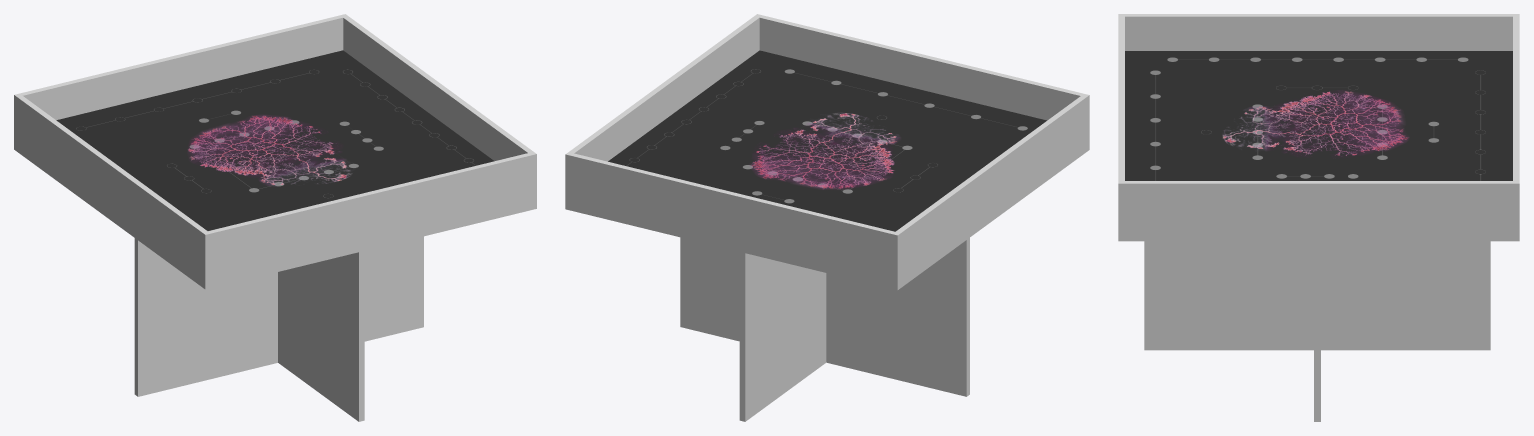
Rendered from table.glb.
3 views of the same model, side by side, from view 1: azimuth 30°, elevation 25°; view 2: azimuth 150°, elevation 25°; view 3: azimuth 270°, elevation 25° (orthographic). The views are drawn at different scales.
Parts seen in each view (by area): view 1: table frame\.002, agar.001, leg 1.005, leg 1.004, slime mold.002, hetu feed.002; view 2: table frame\.002, agar.001, leg 1.005, leg 1.004, slime mold.002, hetu feed.002; view 3: agar.001, table frame\.002, leg 1.004, slime mold.002, leg 1.005, hetu feed.002.
Part boxes in pixels (left/top/right/bottom): table frame\.002: left=14, top=14, right=536, bottom=289; agar.001: left=56, top=50, right=494, bottom=230; leg 1.005: left=134, top=236, right=423, bottom=396; leg 1.004: left=278, top=251, right=364, bottom=421; slime mold.002: left=188, top=115, right=350, bottom=185; hetu feed.002: left=190, top=99, right=456, bottom=192; table frame\.002: left=565, top=14, right=1089, bottom=290; agar.001: left=608, top=50, right=1046, bottom=231; leg 1.005: left=680, top=237, right=969, bottom=396; leg 1.004: left=739, top=252, right=826, bottom=421; slime mold.002: left=751, top=113, right=899, bottom=189; hetu feed.002: left=720, top=69, right=1027, bottom=203; agar.001: left=1125, top=51, right=1512, bottom=180; table frame\.002: left=1118, top=14, right=1519, bottom=241; leg 1.004: left=1144, top=241, right=1490, bottom=350; slime mold.002: left=1222, top=91, right=1408, bottom=156; leg 1.005: left=1314, top=241, right=1320, bottom=421; hetu feed.002: left=1150, top=57, right=1480, bottom=178.
Size of the model in its own units: 3.81 by 2.6 by 3.81.
Materials: 4 (2 with a texture image).
